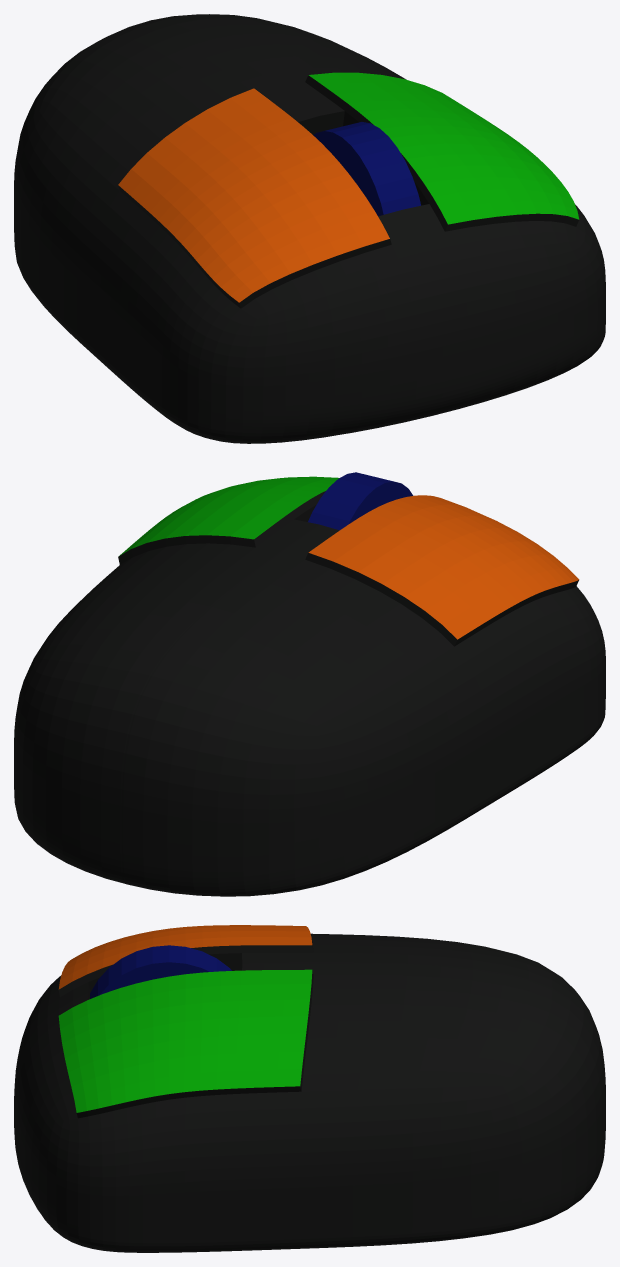
File: mouse.fbx
The picture shows the model from 3 angles, top to bottom: view 1: azimuth 30°, elevation 25°; view 2: azimuth 150°, elevation 25°; view 3: azimuth 270°, elevation 25°; orthographic projection. The views are drawn at different scales.
Visible parts, largest first — view 1: node_id49, node_id53, node_id51, node_id46; view 2: node_id49, node_id53, node_id51, node_id46; view 3: node_id49, node_id51, node_id53, node_id46.
Boxes of the visible parts, x1,y1,x2,y2 form: node_id49: (14, 14, 605, 443); node_id53: (118, 88, 389, 302); node_id51: (308, 72, 579, 224); node_id46: (313, 122, 420, 216); node_id49: (14, 491, 605, 896); node_id53: (308, 495, 578, 639); node_id51: (119, 476, 339, 555); node_id46: (308, 472, 413, 530); node_id49: (14, 933, 605, 1252); node_id51: (58, 969, 312, 1112); node_id53: (58, 925, 312, 989); node_id46: (90, 945, 231, 998).
Bounding box in the file's own units: 0.512 × 0.2794 × 0.6762.
